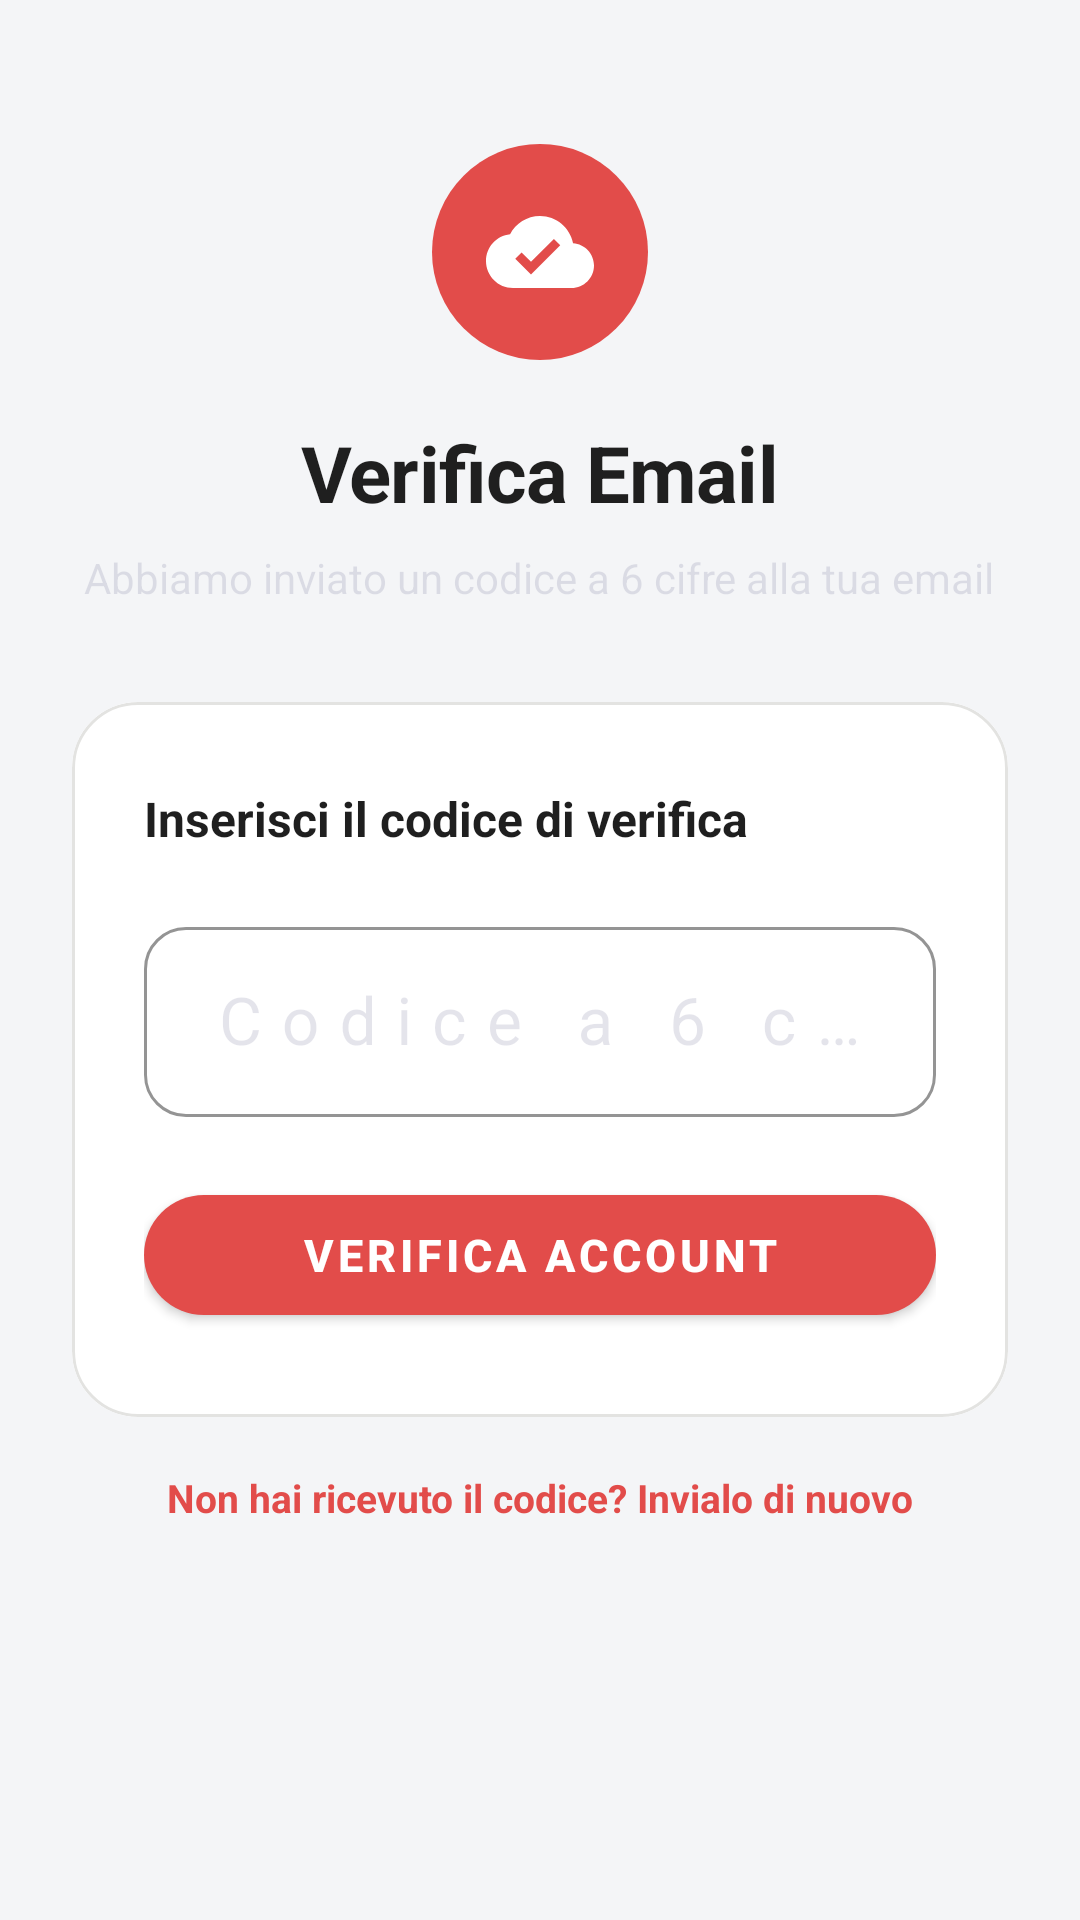

Point at icon controls on the screen. Image size 1080px x 1920px, points as [x,y].
cloud connected: [540,252]
